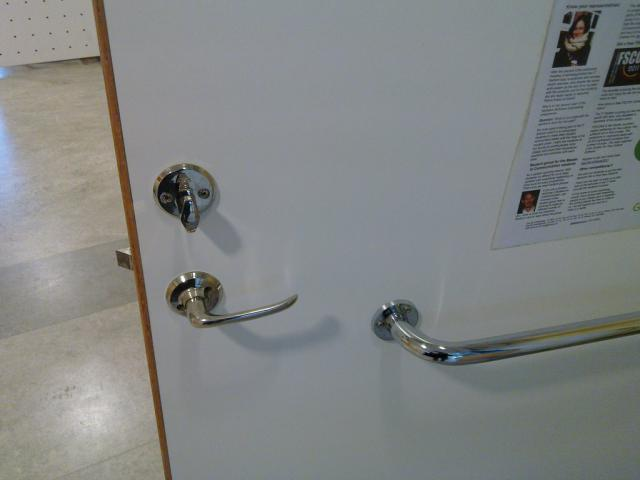Door-handle: (371, 299, 640, 367), (165, 271, 298, 330)
